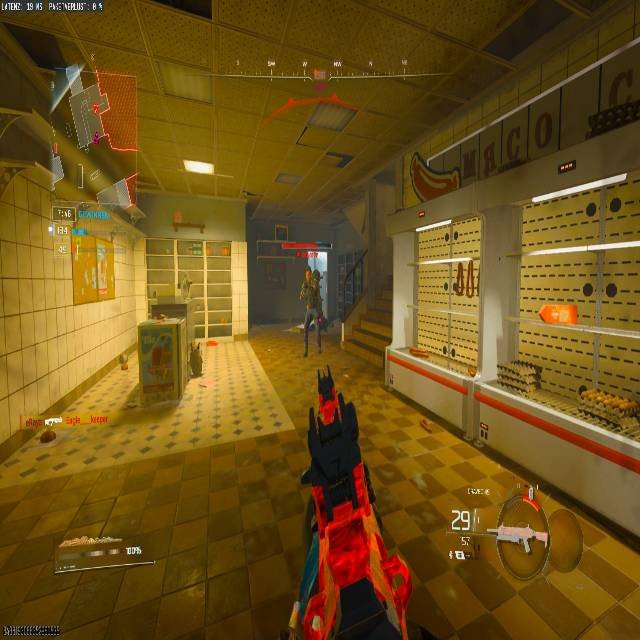player: (297, 267, 326, 356)
